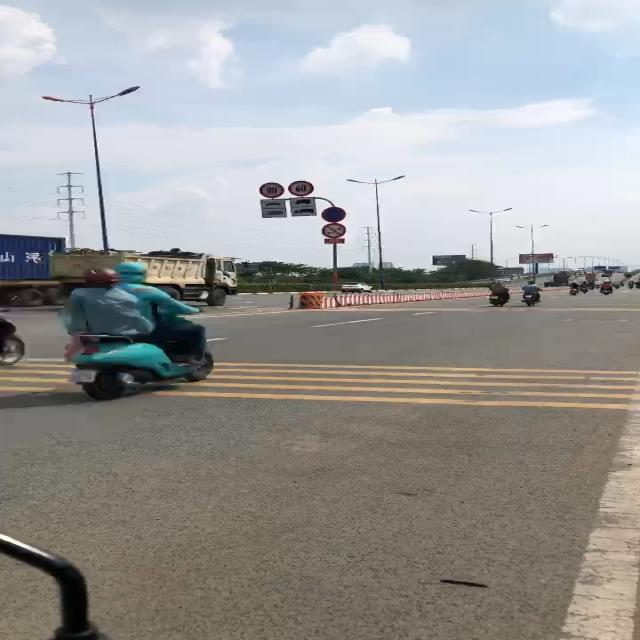Bien bao toc do toi da cho phep: (255, 179, 284, 200), (286, 180, 319, 198)
